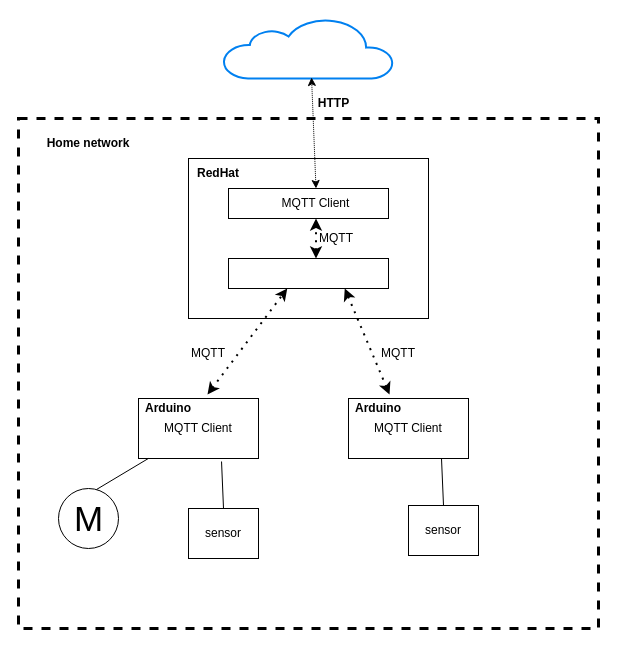
This 617x647 diagram has some shape labels left out. Here are the shapes that lost their labels. From the top down, the box of each, then its label:
(222, 17, 394, 79): Internet
(228, 258, 388, 288): Broker
